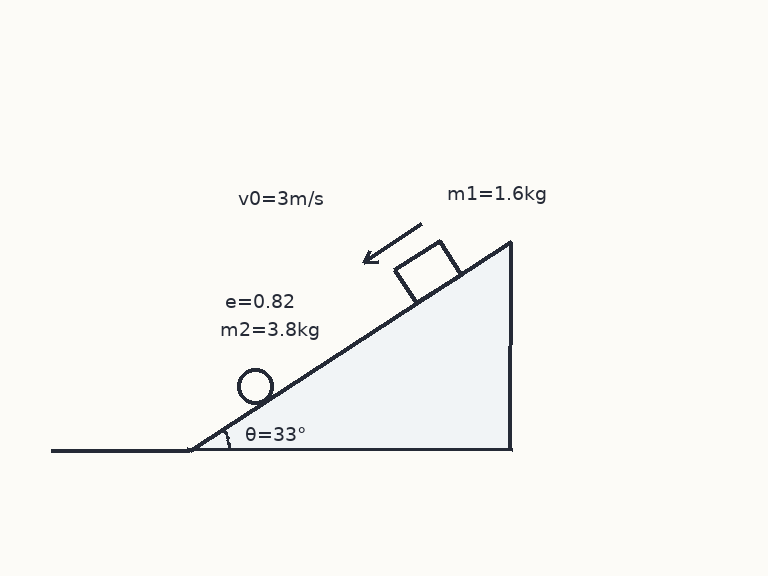ball: (235, 366, 275, 406)
block: (393, 239, 463, 305)
ramp: (187, 239, 512, 452)
